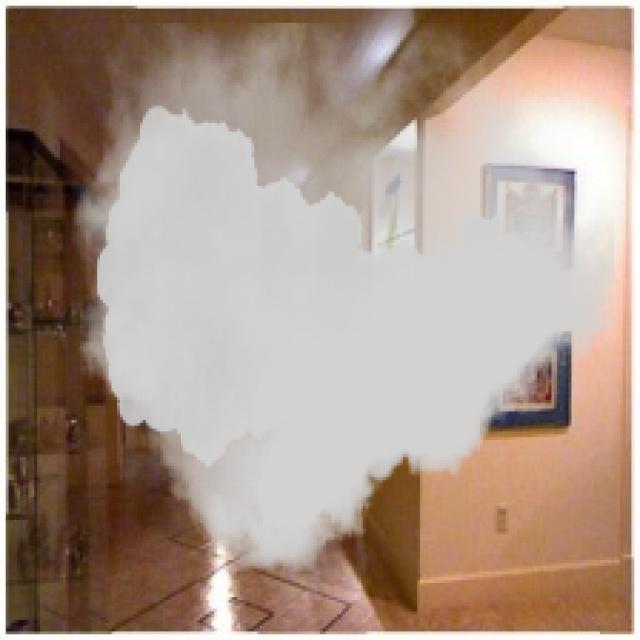Smoke: (71, 22, 614, 572)
